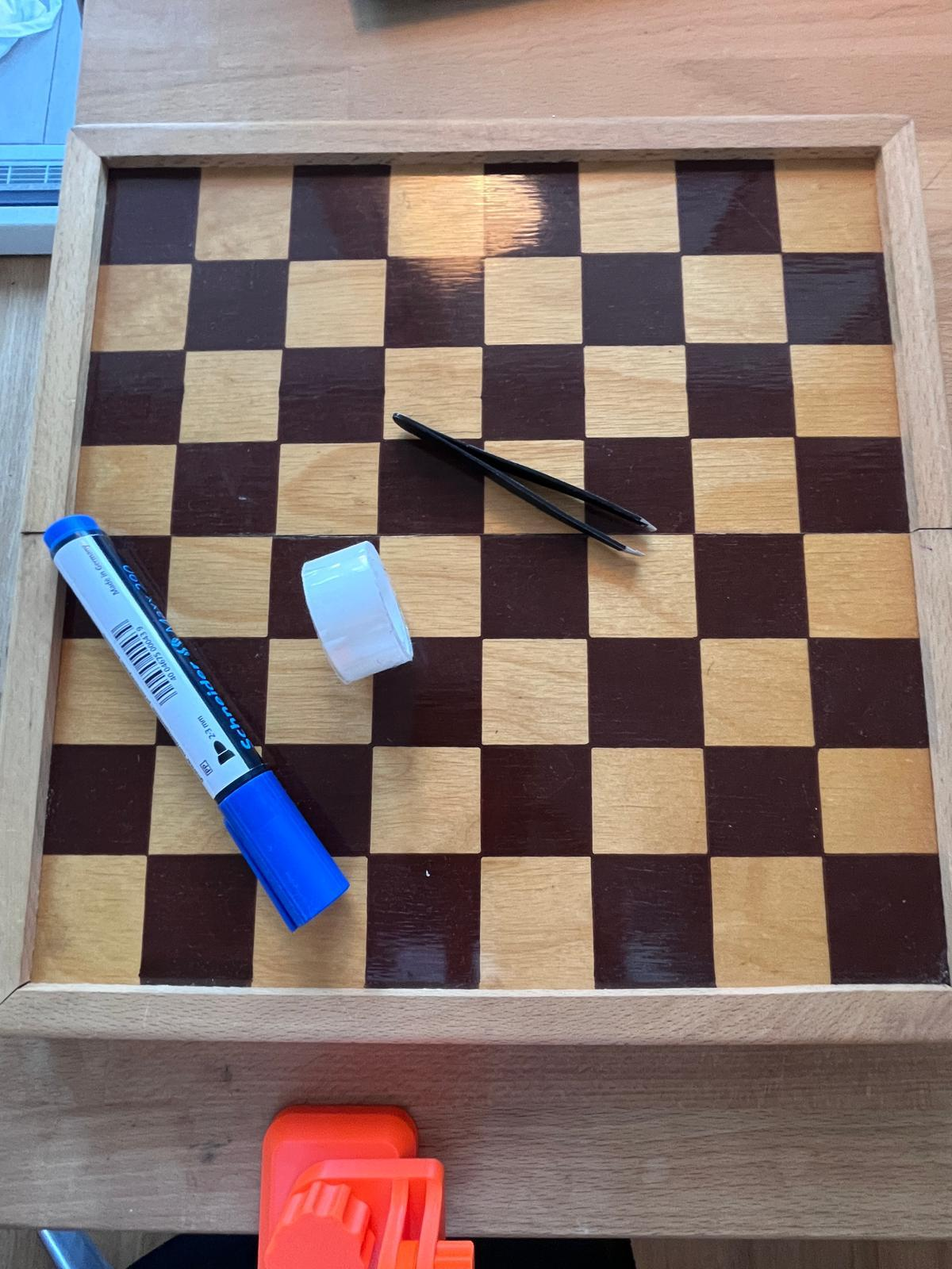marker: (46, 517, 352, 934)
tape: (295, 541, 409, 676)
tweezer: (378, 406, 663, 565)
